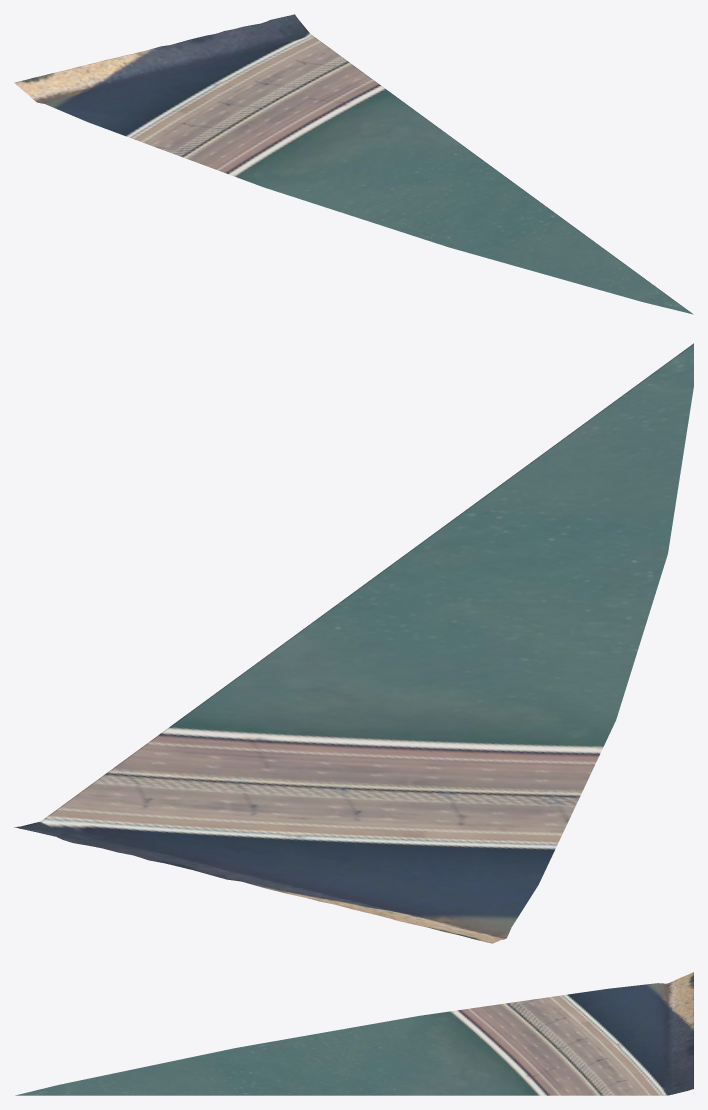
Rendered from terrain_11.glb.
3 renders of one model, top to bottom at view 1: azimuth 30°, elevation 25°; view 2: azimuth 150°, elevation 25°; view 3: azimuth 270°, elevation 25°, orthographic. The views are drawn at different scales.
Visible parts, largest first — view 1: T08250168000106E10.001; view 2: T08250168000106E10.001; view 3: T08250168000106E10.001.
Part boxes in pixels (x1,y1,x2,y2): T08250168000106E10.001: (14, 14, 693, 314); T08250168000106E10.001: (14, 343, 693, 943); T08250168000106E10.001: (15, 972, 693, 1095).
Bounding box in the file's own units: 91.07 × 3.36 × 224.
Materials: 1 (1 with a texture image).
